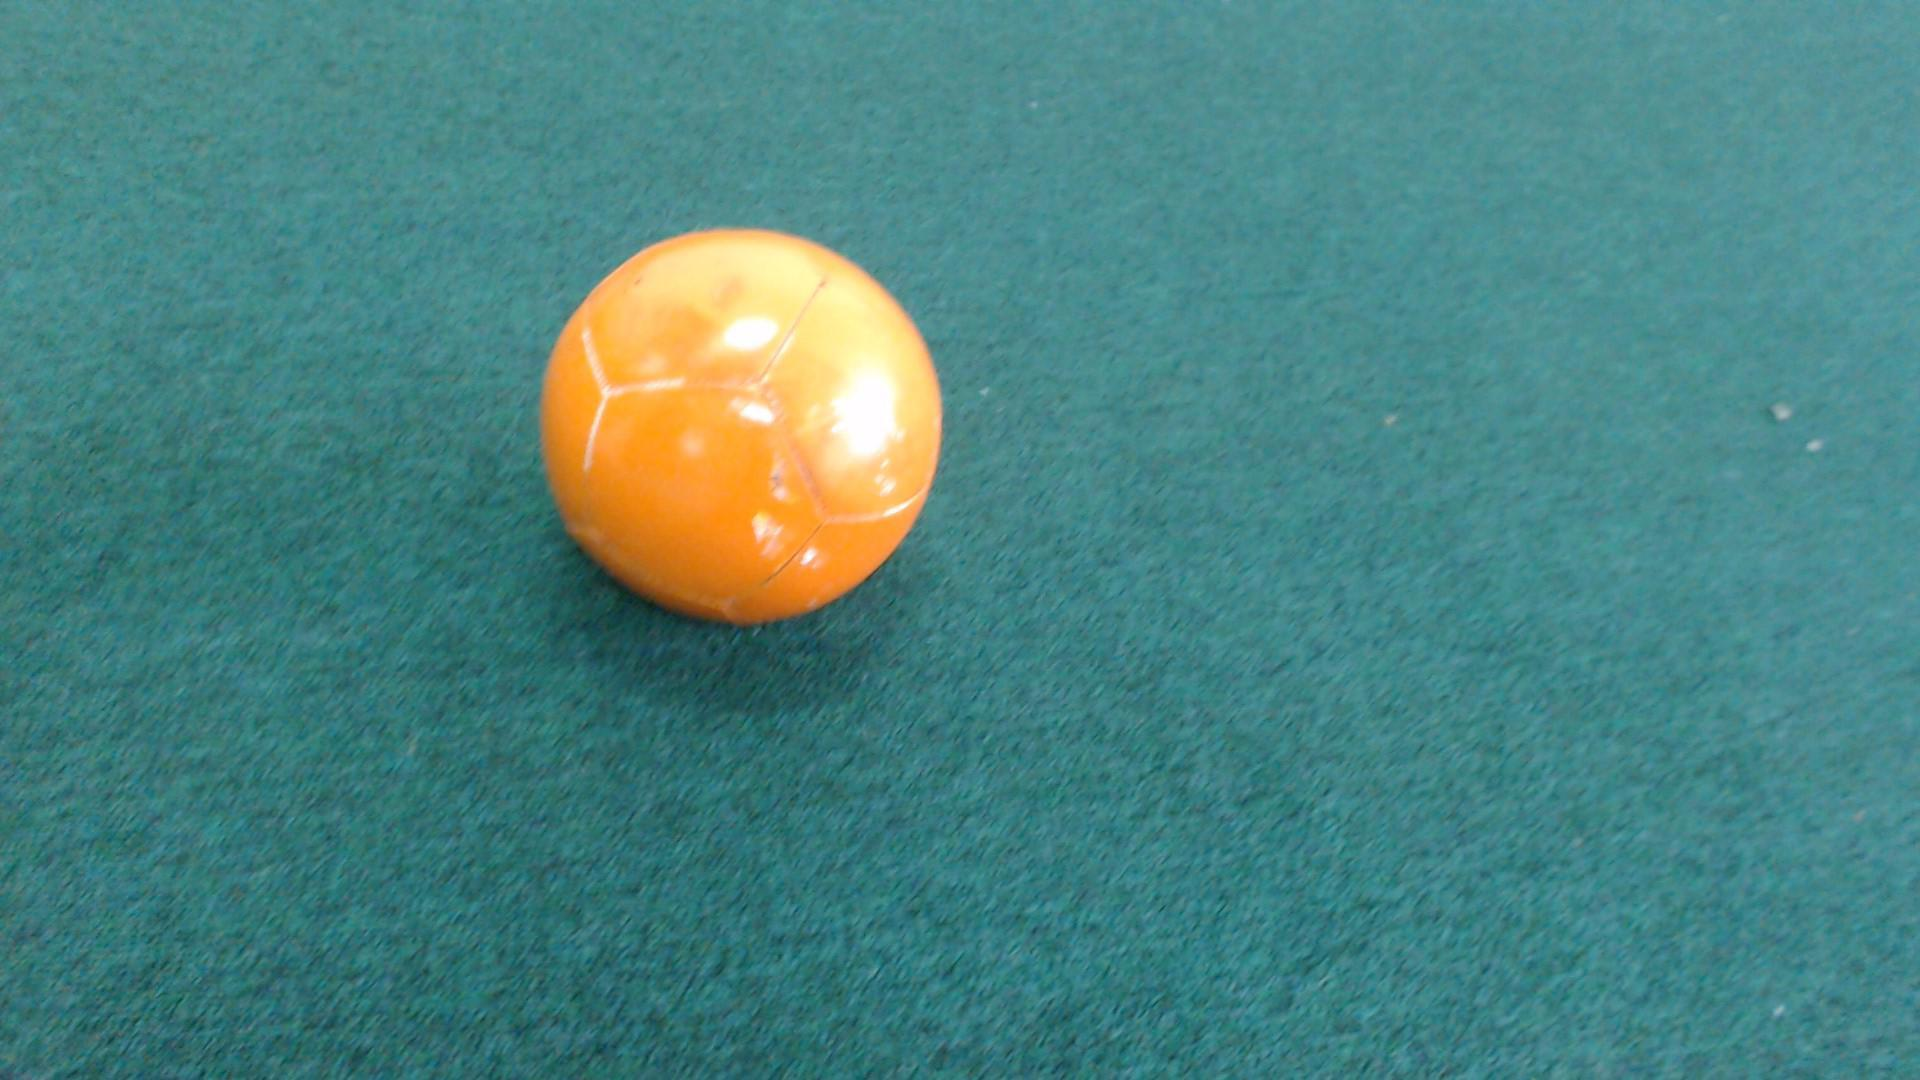bola: (521, 198, 963, 666)
